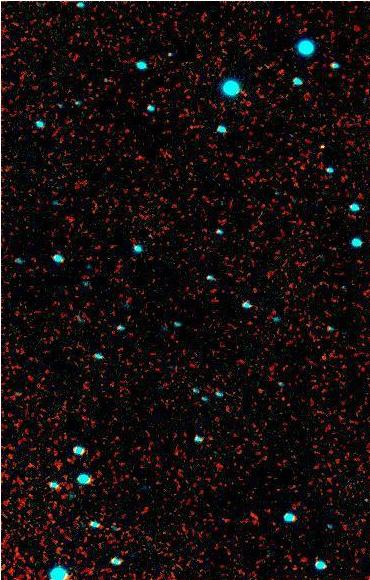star: (308, 130, 338, 160)
